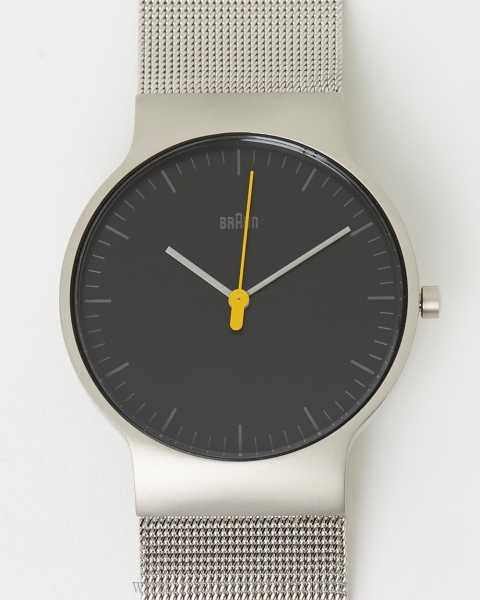clock: (69, 128, 412, 464)
